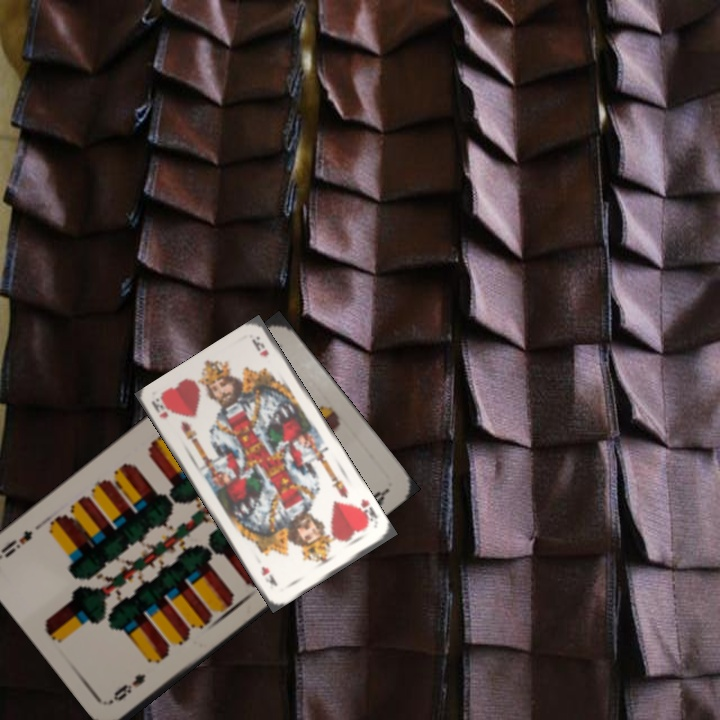E9: (109, 669, 149, 704)
HK: (351, 494, 380, 529), (148, 394, 171, 421)
